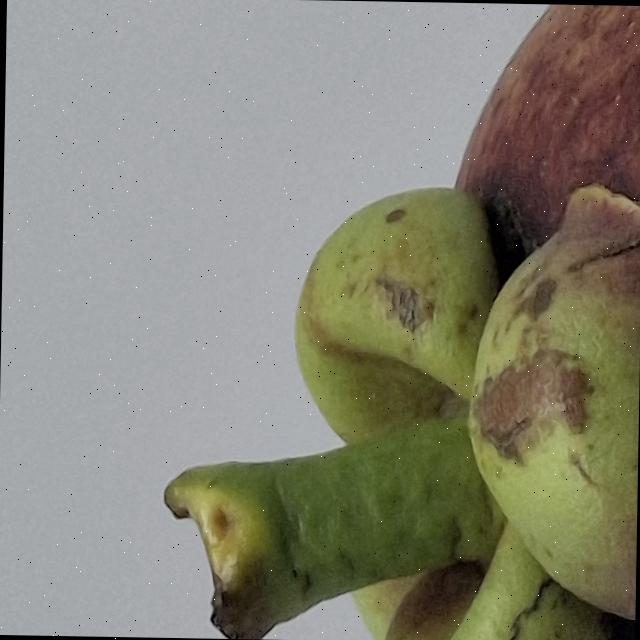mangosteen: (124, 0, 640, 640)
